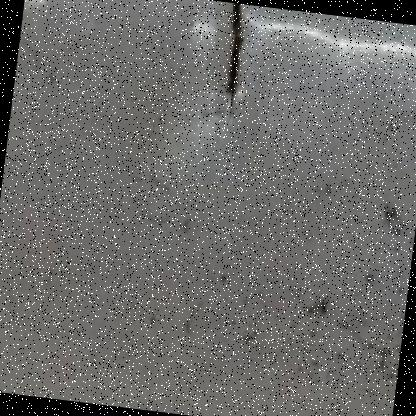Crack: (185, 0, 301, 151)
